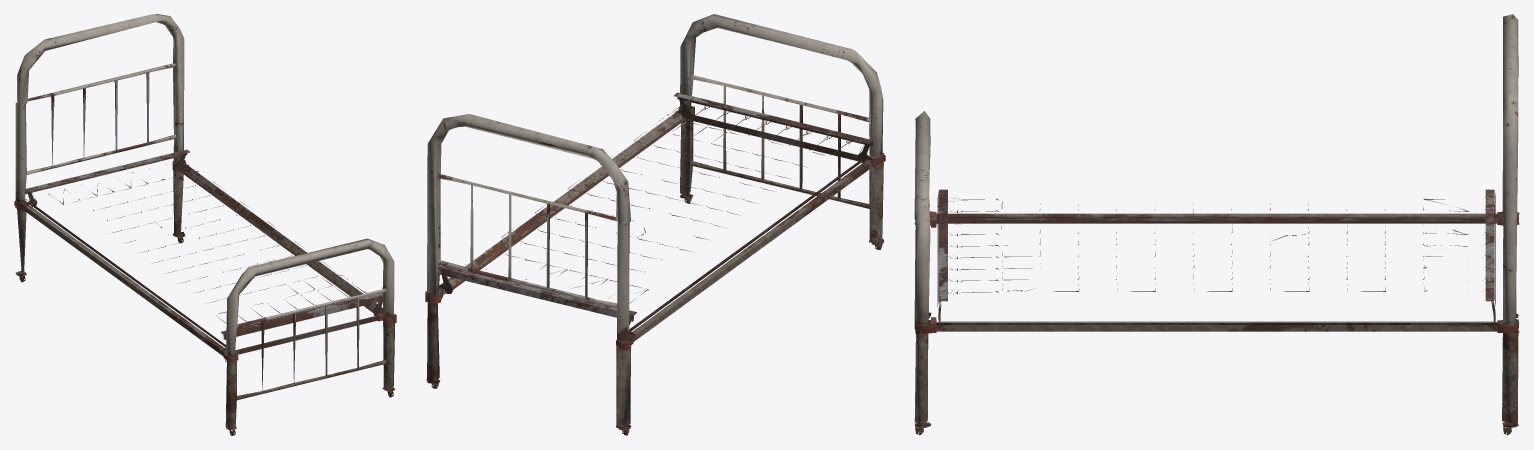
File: prop_bed.glb
3 renders of one model, left to right at view 1: azimuth 30°, elevation 25°; view 2: azimuth 150°, elevation 25°; view 3: azimuth 270°, elevation 25°, orthographic. The views are drawn at different scales.
Parts seen in each view (by area): view 1: prop_bed; view 2: prop_bed; view 3: prop_bed.
Boxes of the visible parts, x1,y1,x2,y2 form: prop_bed: (14,14,396,435); prop_bed: (425,14,885,435); prop_bed: (914,14,1519,435).
Bounding box in the file's own units: 0.6829 × 0.9016 × 1.5.
1 material, 1 textured.
